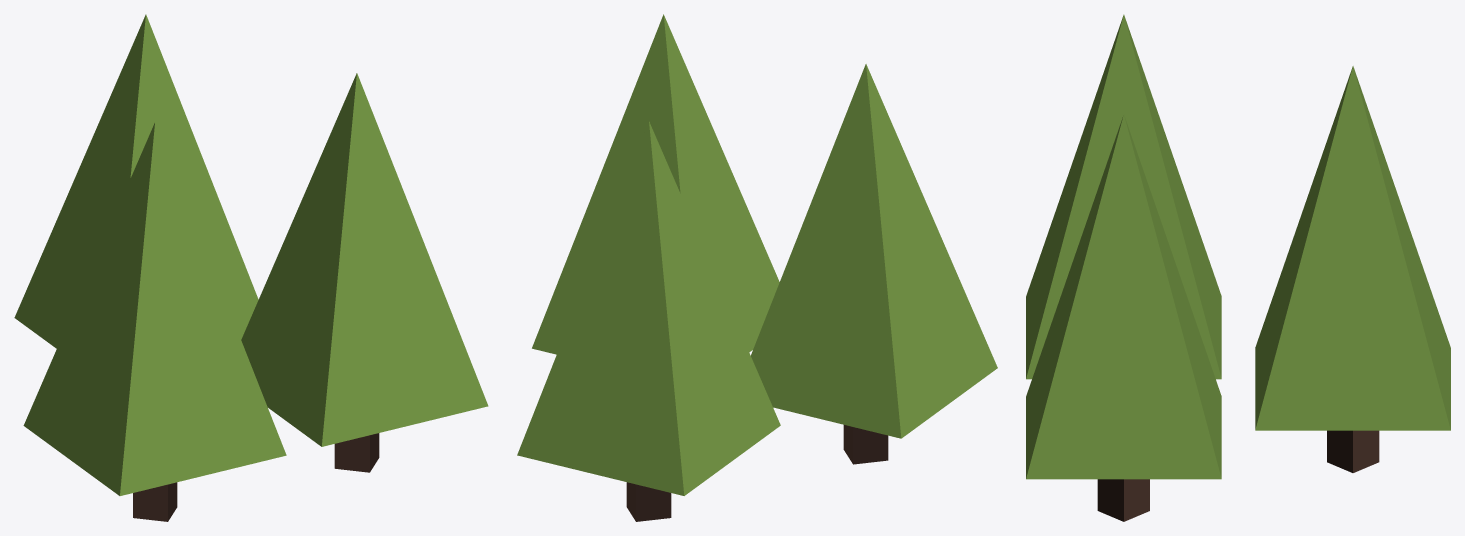
Rendered from TB_Env_Tree_C_Med.FBX.
The picture shows the model from 3 angles, left to right: view 1: azimuth 30°, elevation 25°; view 2: azimuth 150°, elevation 25°; view 3: azimuth 270°, elevation 25°; orthographic projection.
Visible parts, largest first — view 1: TB_Env_Tree_C_Med; view 2: TB_Env_Tree_C_Med; view 3: TB_Env_Tree_C_Med.
Part boxes in pixels (bbox=[...]): TB_Env_Tree_C_Med: bbox=[14, 14, 488, 521]; TB_Env_Tree_C_Med: bbox=[517, 14, 997, 521]; TB_Env_Tree_C_Med: bbox=[1026, 14, 1450, 521].
Bounding box in the file's own units: 5.97 × 6.04 × 5.86.
